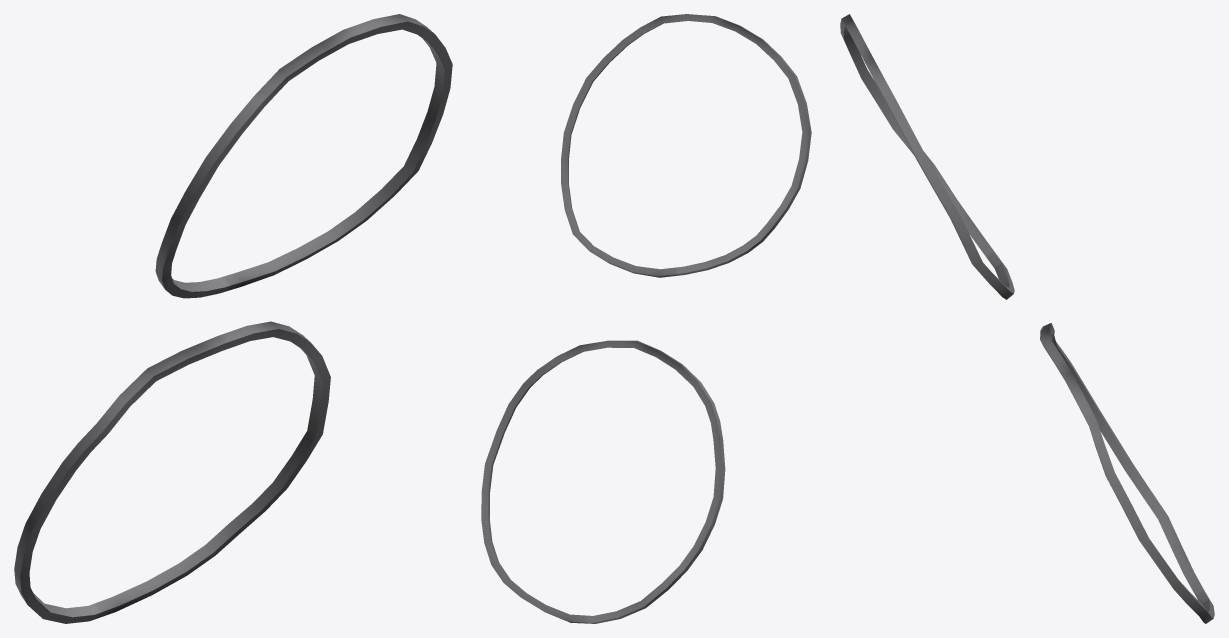
File: baiquan004.FBX
3 renders of one model, left to right at view 1: azimuth 30°, elevation 25°; view 2: azimuth 150°, elevation 25°; view 3: azimuth 270°, elevation 25°, orthographic. The views are drawn at different scales.
Parts seen in each view (by area): view 1: baiquan004; view 2: baiquan004; view 3: baiquan004.
Part boxes in pixels (x1,y1,x2,y2): baiquan004: [14, 14, 452, 623]; baiquan004: [481, 14, 811, 623]; baiquan004: [840, 14, 1214, 623].
Size of the model in its own units: 33.55 by 73.25 by 42.15.
